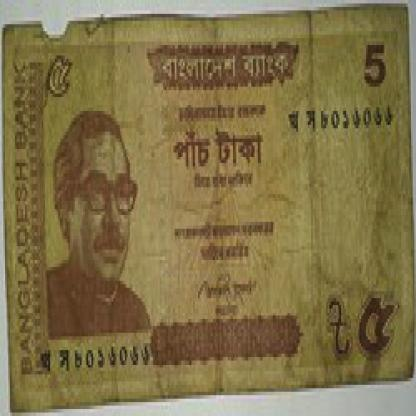Five Taka: (356, 281, 398, 371), (361, 28, 391, 97), (42, 45, 73, 104)
